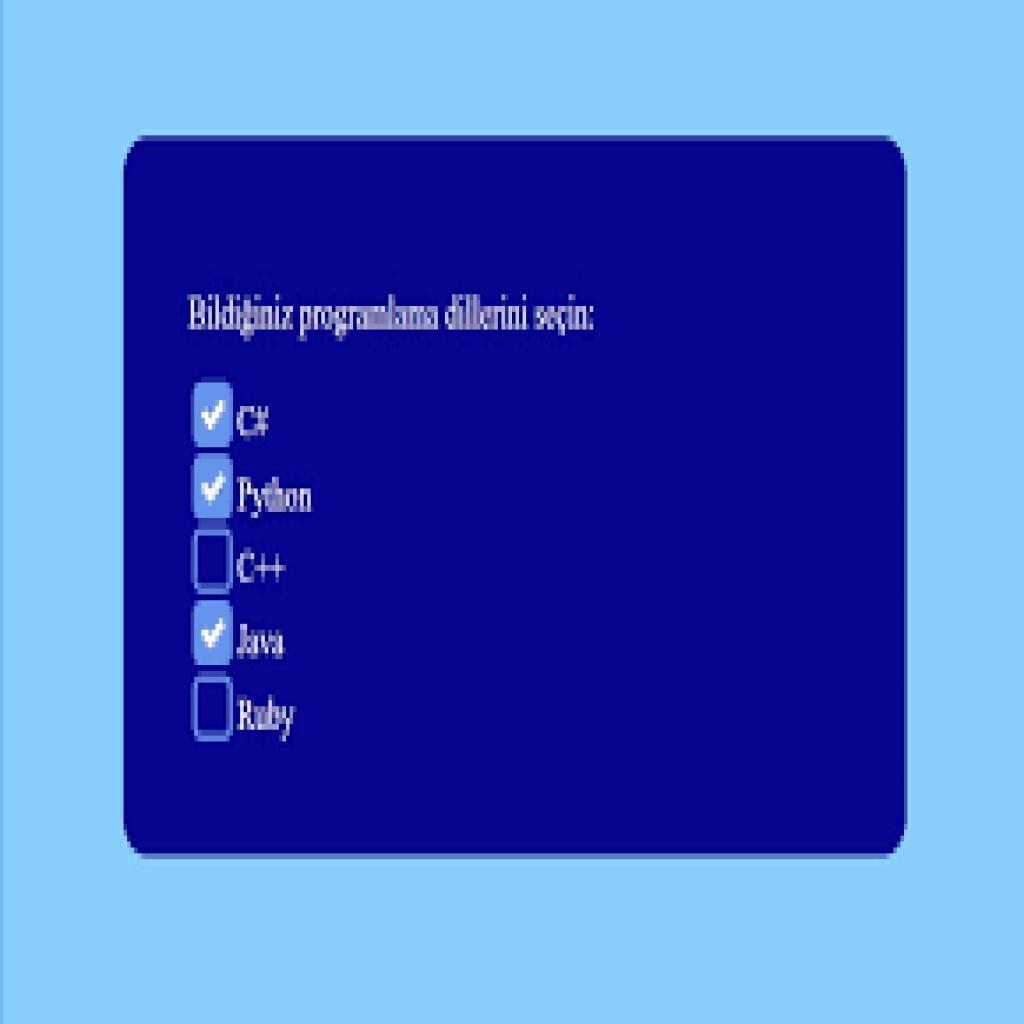checkbox: (194, 602, 236, 667), (192, 456, 235, 519), (194, 677, 236, 740), (194, 384, 235, 448), (194, 532, 235, 591)
label: (185, 283, 601, 345), (239, 476, 317, 514), (240, 696, 295, 741), (237, 624, 293, 667), (236, 545, 283, 589), (238, 403, 274, 440)
